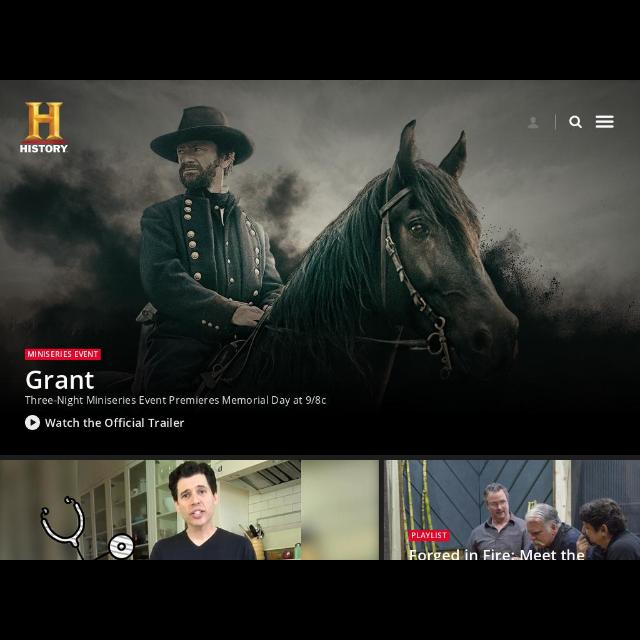backgroundimage: (1, 81, 639, 455)
button: (26, 416, 40, 430)
icon: (596, 115, 614, 128), (568, 115, 584, 129), (527, 116, 539, 130)
image: (1, 461, 301, 559), (385, 460, 639, 560), (19, 102, 69, 154)
text: (25, 396, 328, 406), (44, 418, 186, 430), (26, 370, 94, 390), (27, 349, 99, 359), (28, 418, 36, 426)
